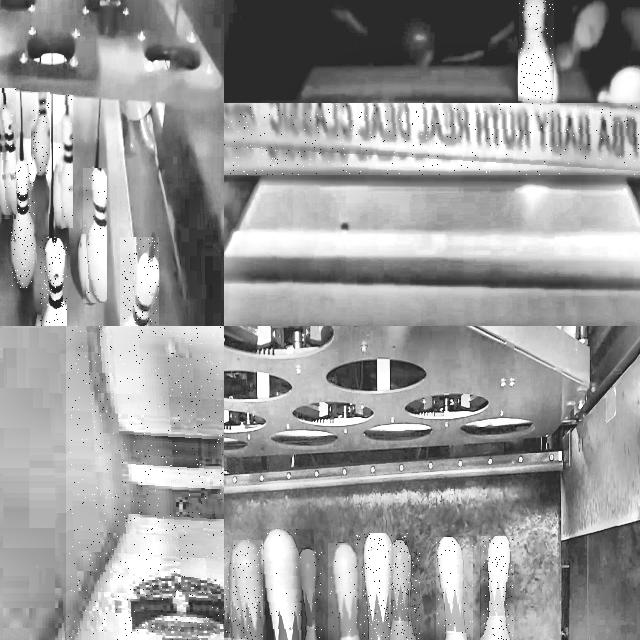bowling-pins: (68, 326, 224, 640), (261, 529, 299, 640), (519, 0, 553, 103), (11, 159, 35, 288), (364, 534, 393, 640), (437, 537, 466, 640), (233, 541, 263, 640), (125, 237, 158, 326), (85, 168, 106, 303), (483, 537, 507, 640), (330, 544, 355, 640), (40, 238, 66, 326), (0, 89, 16, 216), (393, 545, 414, 640), (294, 548, 315, 640), (59, 96, 73, 228), (33, 92, 50, 174), (224, 547, 232, 640)
sweep board: (224, 103, 640, 173)
